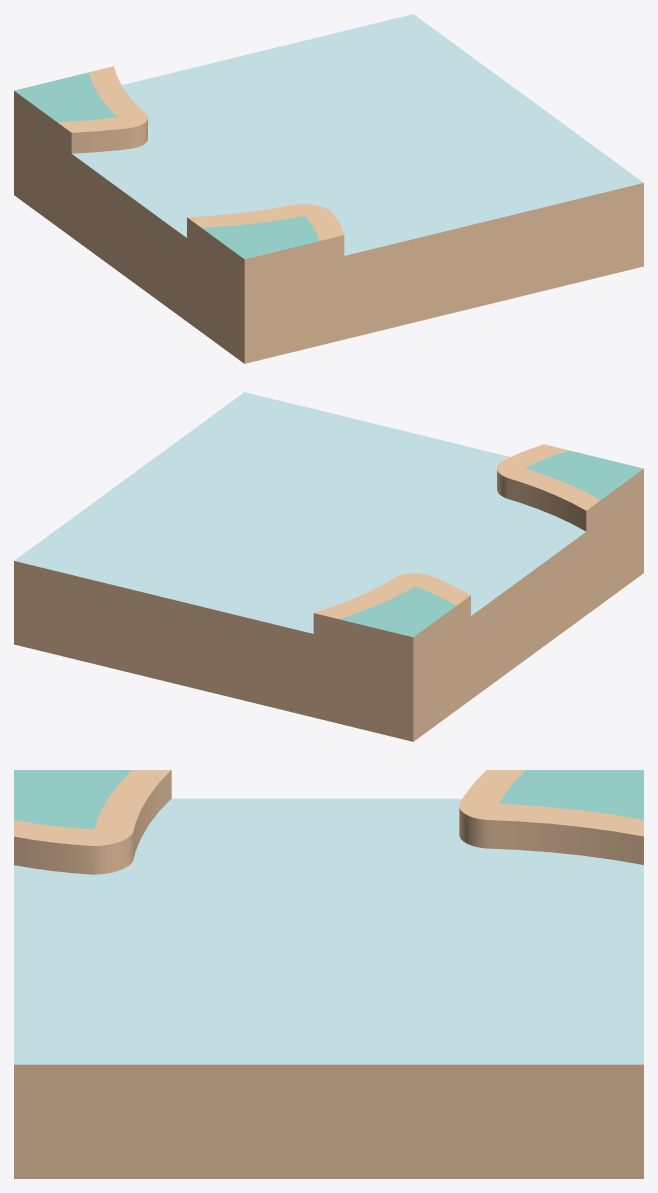
Rendered from ground_dirtRiverEntrance.glb.
3 renders of one model, top to bottom at view 1: azimuth 30°, elevation 25°; view 2: azimuth 150°, elevation 25°; view 3: azimuth 270°, elevation 25°, orthographic. The views are drawn at different scales.
Visible parts, largest first — view 1: ground_dirtRiverEntrance; view 2: ground_dirtRiverEntrance; view 3: ground_dirtRiverEntrance.
Boxes of the visible parts, box(x1,y1,x2,y2) form: ground_dirtRiverEntrance: box(14, 14, 643, 363); ground_dirtRiverEntrance: box(14, 392, 643, 741); ground_dirtRiverEntrance: box(14, 770, 643, 1178).
Size of the model in its own units: 1 by 0.25 by 1.
